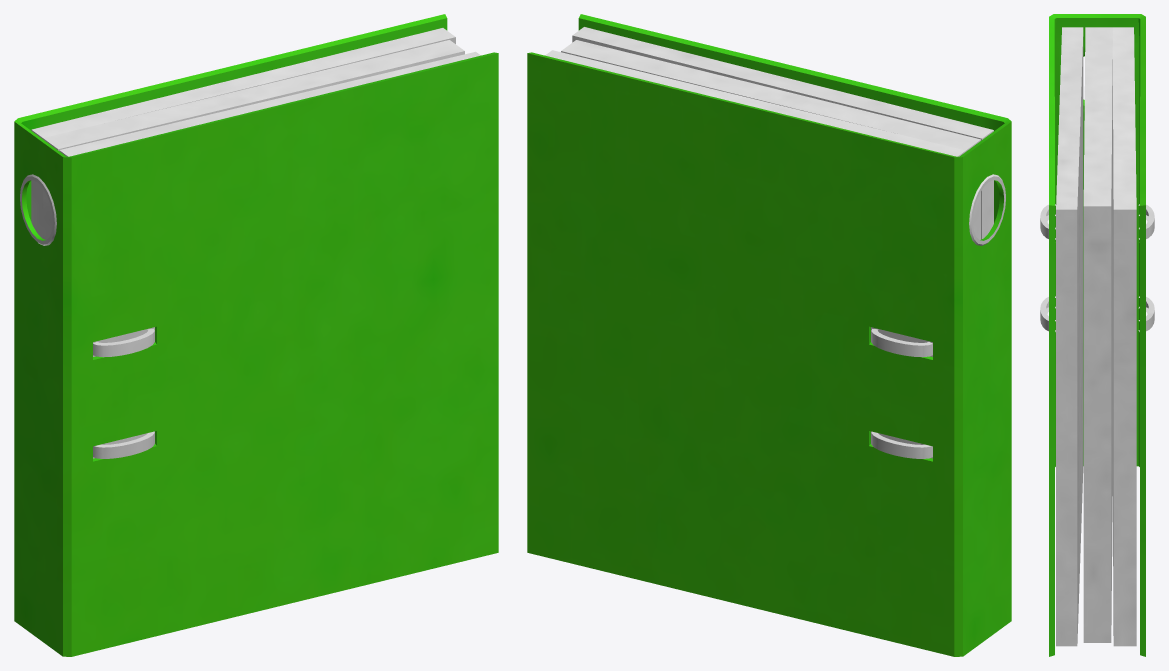
The model's file is folder green.fbx.
The picture shows the model from 3 angles, left to right: view 1: azimuth 30°, elevation 25°; view 2: azimuth 150°, elevation 25°; view 3: azimuth 270°, elevation 25°; orthographic projection. The views are drawn at different scales.
Parts seen in each view (by area): view 1: folder_green; view 2: folder_green; view 3: folder_green.
Part boxes in pixels (x1=…): folder_green: x1=14, y1=14, x2=498, y2=656; folder_green: x1=527, y1=14, x2=1011, y2=656; folder_green: x1=1040, y1=14, x2=1154, y2=656.
Size of the model in its own units: 30.46 by 33.46 by 7.69.
